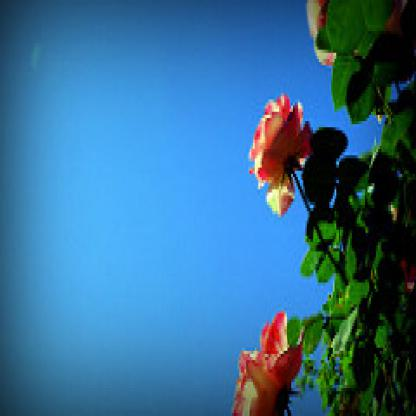Rose-Mawar: (223, 20, 320, 414)
